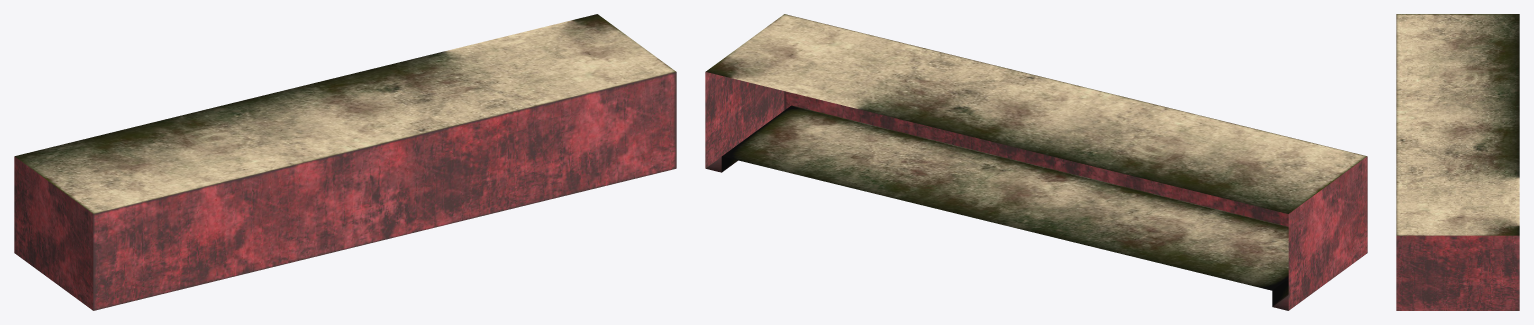
The model's file is Balcony_Floor.FBX.
3 renders of one model, left to right at view 1: azimuth 30°, elevation 25°; view 2: azimuth 150°, elevation 25°; view 3: azimuth 270°, elevation 25°, orthographic. The views are drawn at different scales.
Visible parts, largest first — view 1: Balcony_Floor; view 2: Balcony_Floor; view 3: Balcony_Floor.
Part boxes in pixels (x1,y1,x2,y2): Balcony_Floor: (14,14,676,310); Balcony_Floor: (705,14,1367,310); Balcony_Floor: (1396,14,1519,310).
Bounding box in the file's own units: 575 × 91.3 × 135.
